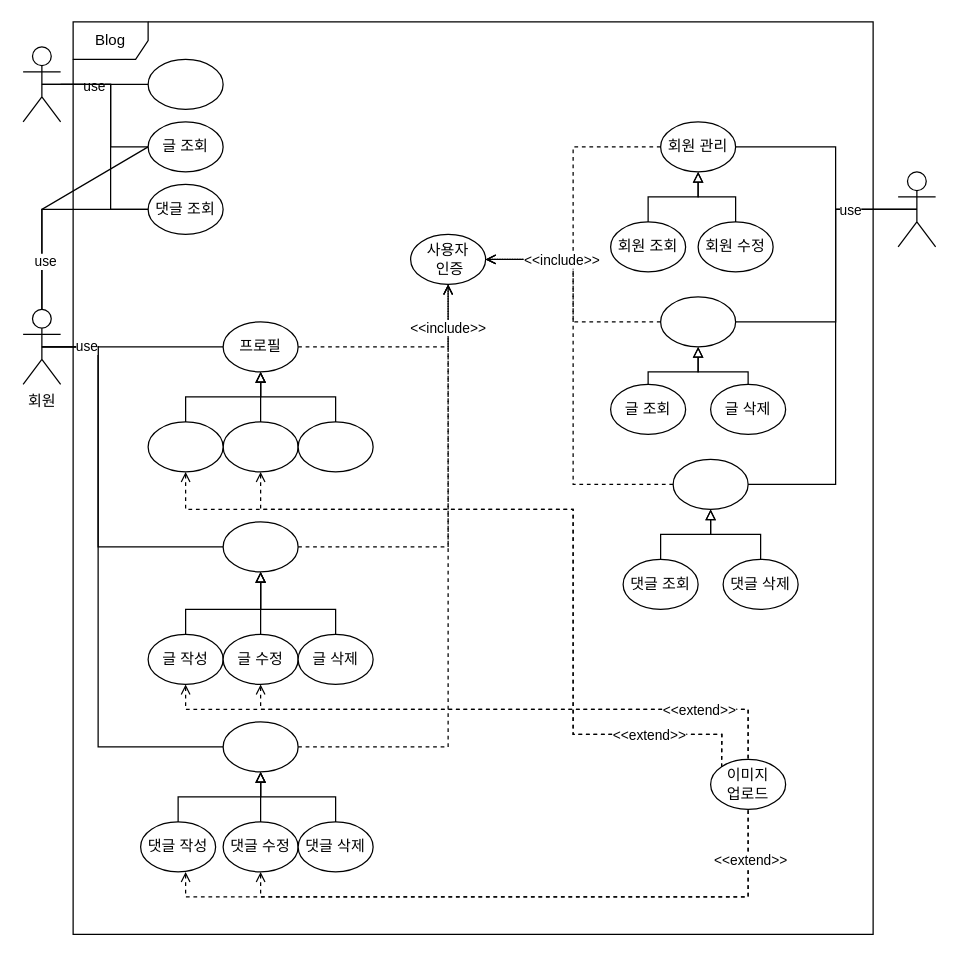
Image size: 959x956. Some labels were removed from this diagram. The shapes that lost their labels are listed below. From the top down, each one's centre as x and y in pixels, then its label:
At point 41,84: "비회원".
At point 185,83: "회원 가입".
At point 916,209: "관리자".
At point 697,321: "글 관리".
At point 185,446: "프로필 조회".
At point 260,446: "프로필 수정".
At point 335,446: "회원 탈퇴".
At point 710,483: "댓글 관리".
At point 260,546: "글 권한".
At point 260,746: "댓글 권한".
